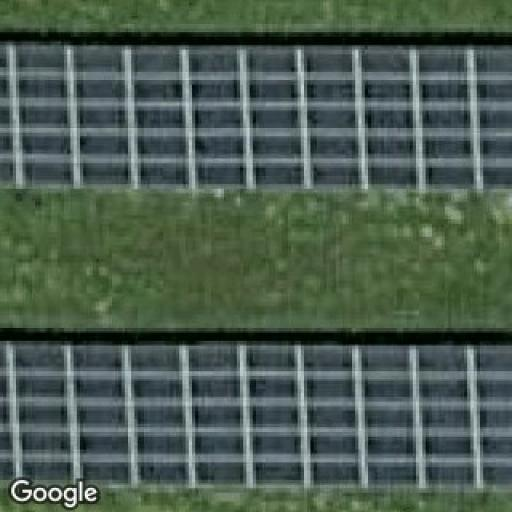solar-panel: (0, 40, 512, 187), (0, 342, 512, 486)
